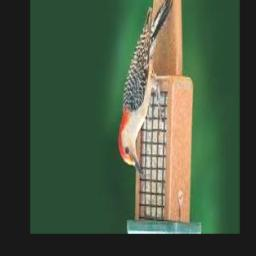Woodpecker: (119, 0, 173, 179)
